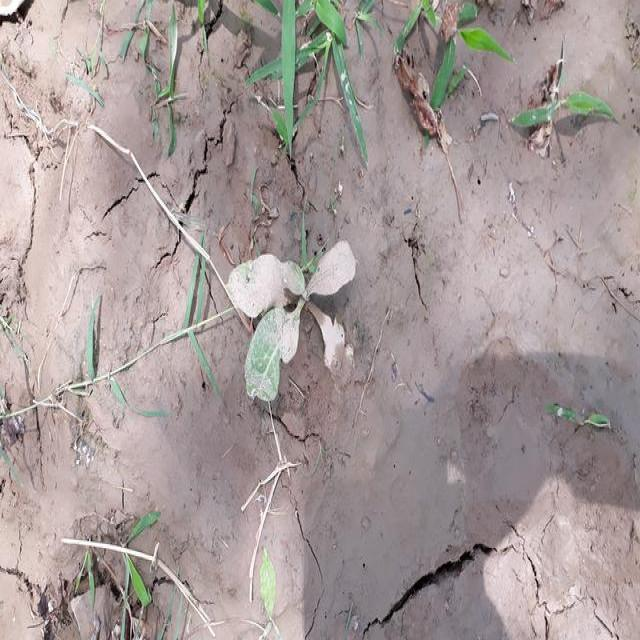crop: (225, 241, 366, 406)
